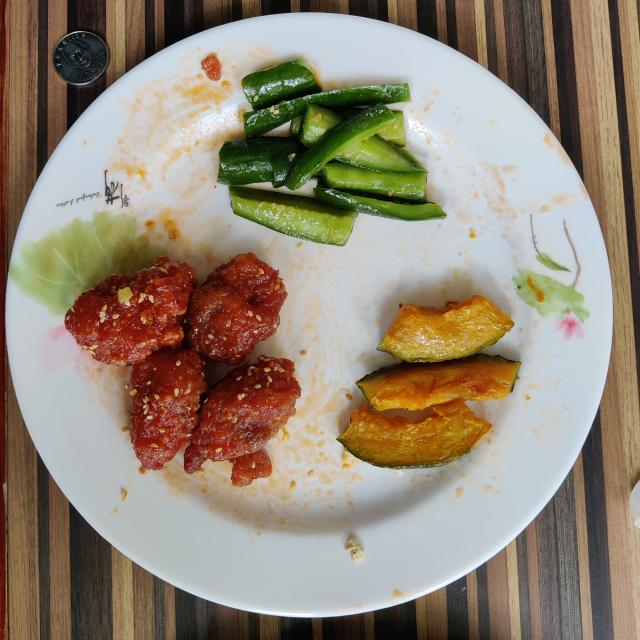coin: (52, 31, 109, 86)
cucumber: (218, 59, 445, 246)
pumpkin: (338, 295, 520, 468)
